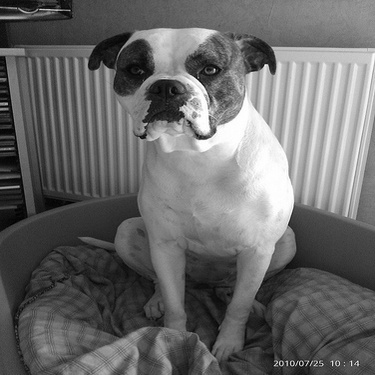dog: (63, 27, 302, 363)
